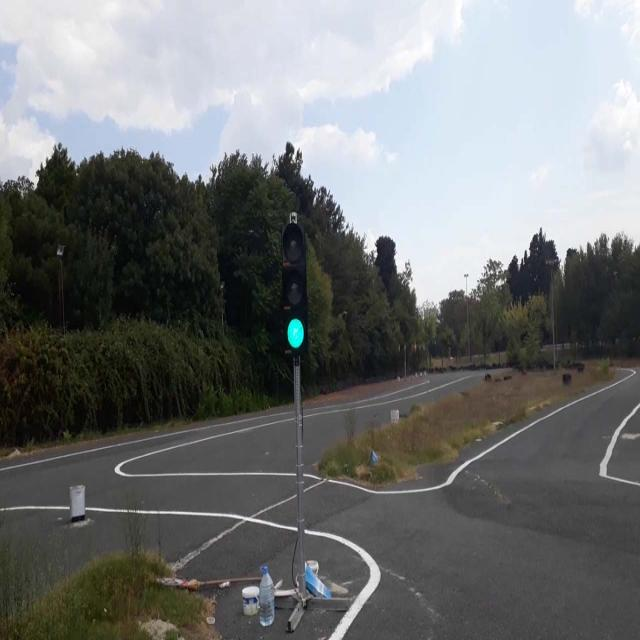yesil: (283, 217, 307, 355)
